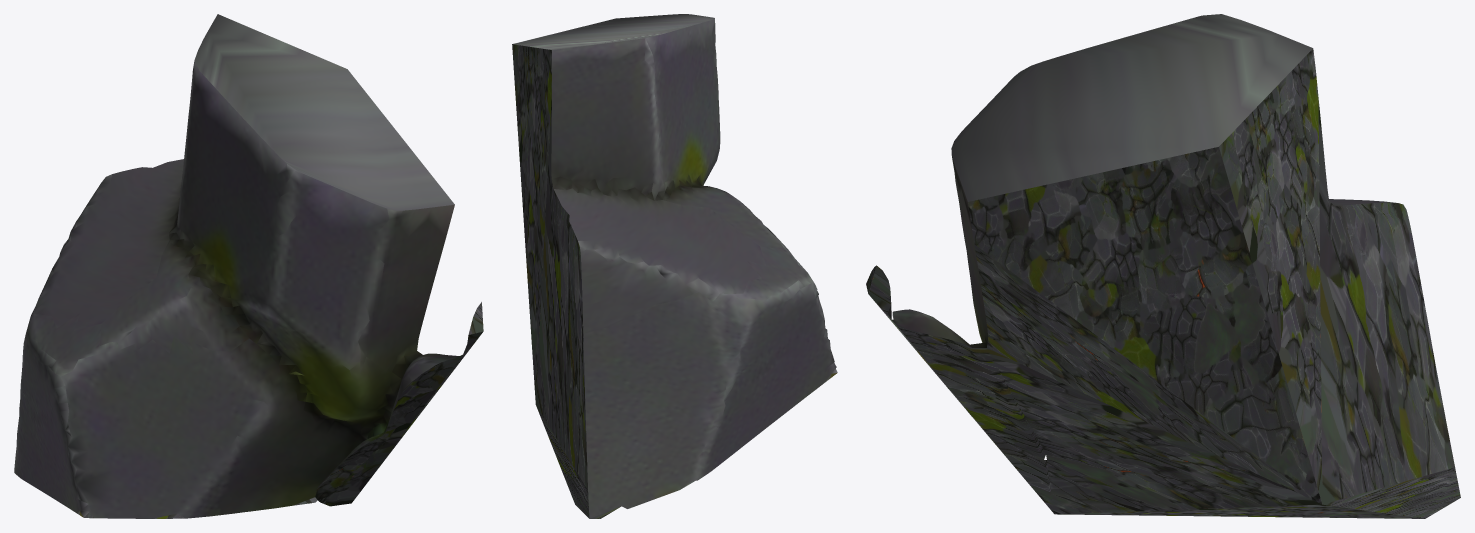
File: Frag_18.gltf
The picture shows the model from 3 angles, left to right: view 1: azimuth 30°, elevation 25°; view 2: azimuth 150°, elevation 25°; view 3: azimuth 270°, elevation 25°; orthographic projection. The views are drawn at different scales.
Parts seen in each view (by area): view 1: Frag_18; view 2: Frag_18; view 3: Frag_18.
Part boxes in pixels (x1,y1,x2,y2): Frag_18: (14,14,483,518); Frag_18: (512,14,837,518); Frag_18: (866,14,1460,518).
Size of the model in its own units: 0.2531 by 0.3493 by 0.3676.
1 material, 1 textured.
